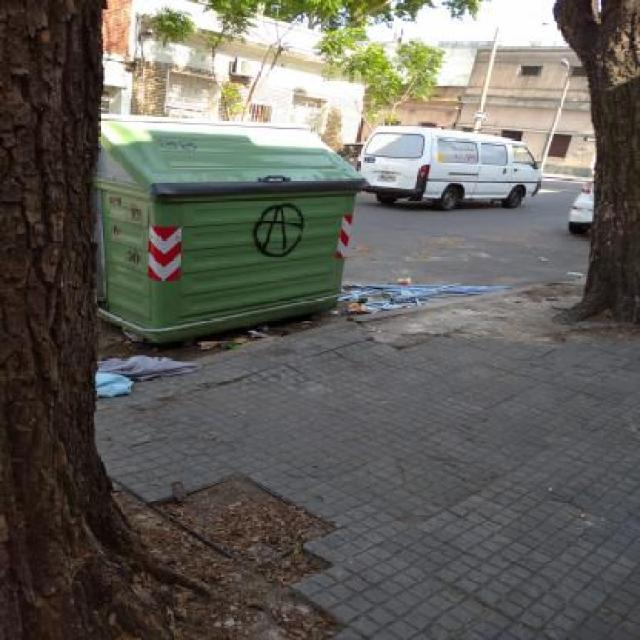garbage: (333, 252, 520, 364), (85, 325, 232, 450)
